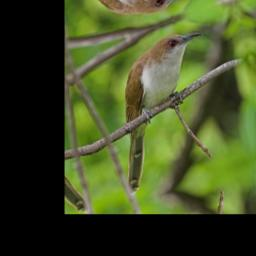Cuckoo: (90, 23, 240, 194)
